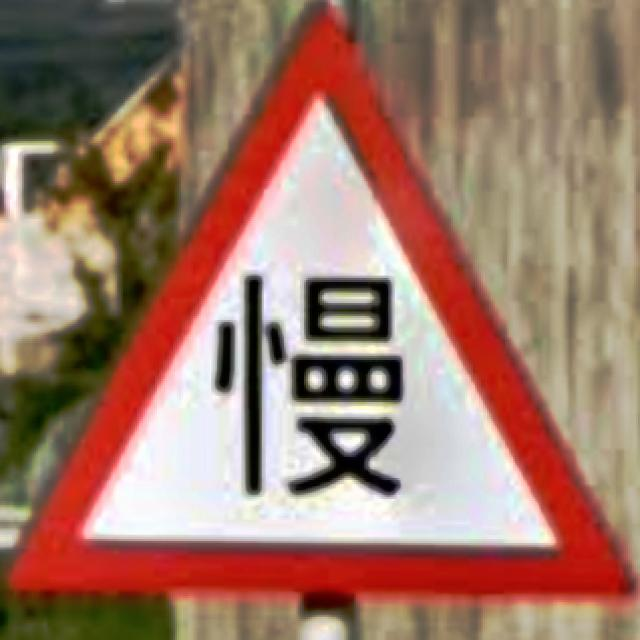slow: (12, 8, 636, 600)
